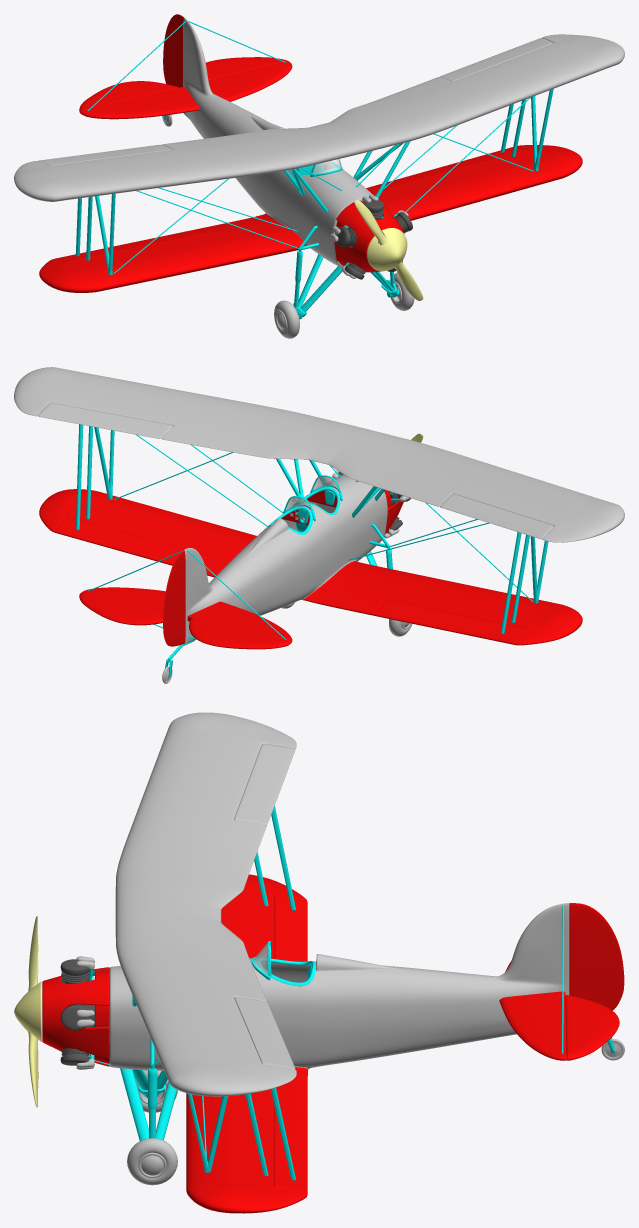
File: GreatLakesBiplaneHP.obj
3 views of the same model, one above another, from view 1: azimuth 30°, elevation 25°; view 2: azimuth 150°, elevation 25°; view 3: azimuth 270°, elevation 25° (orthographic). The views are drawn at different scales.
Parts seen in each view (by area): view 1: TopWing, Fuselage, TailHoriz, WingStruts, Elevator, SpanWires, EngCowling1, Engine, PropCone, Rudder, L_TopAileron, L_BotAileron (+6 smaller); view 2: Fuselage, TopWing, Elevator, TailHoriz, WingStruts, R_BotAileron, L_BotAileron, L_TopAileron, R_TopAileron, Rudder, SpanWires, CockpitTrim (+2 smaller); view 3: TopWing, Fuselage, Rudder, EngCowling1, TailHoriz, R_TopAileron, Elevator, L_BotAileron, L_TopAileron, Engine, R_BotAileron, LWheel (+4 smaller).
Boxes of the visible parts, x1,y1,x2,y2 form: TopWing: (14,34,624,201); Fuselage: (39,18,582,292); TailHoriz: (81,61,292,119); WingStruts: (86,89,553,274); Elevator: (79,57,288,113); SpanWires: (87,21,533,273); EngCowling1: (334,202,404,272); Engine: (330,194,412,279); PropCone: (367,228,407,271); Rudder: (163,14,184,87); L_TopAileron: (440,38,553,81); L_BotAileron: (375,147,526,189); Fuselage: (39,474,582,645); TopWing: (14,367,624,542); Elevator: (79,592,289,649); TailHoriz: (82,587,292,644); WingStruts: (86,426,548,622); R_BotAileron: (374,600,527,644); L_BotAileron: (54,517,208,565); L_TopAileron: (38,403,173,438); R_TopAileron: (440,494,553,539); Rudder: (163,550,185,646); SpanWires: (87,434,533,639); CockpitTrim: (268,487,340,534); TopWing: (115,712,296,1096); Fuselage: (109,874,569,1213); Rudder: (569,903,624,1010); EngCowling1: (42,967,109,1066); TailHoriz: (499,961,566,1060); R_TopAileron: (234,744,295,825); Elevator: (565,995,619,1060); L_BotAileron: (274,1105,307,1194); L_TopAileron: (234,997,295,1069); Engine: (60,956,95,1069); R_BotAileron: (274,894,307,961); LWheel: (127,1138,177,1185).
Bounding box in the file's own units: 8.1 × 2.52 × 5.52.
